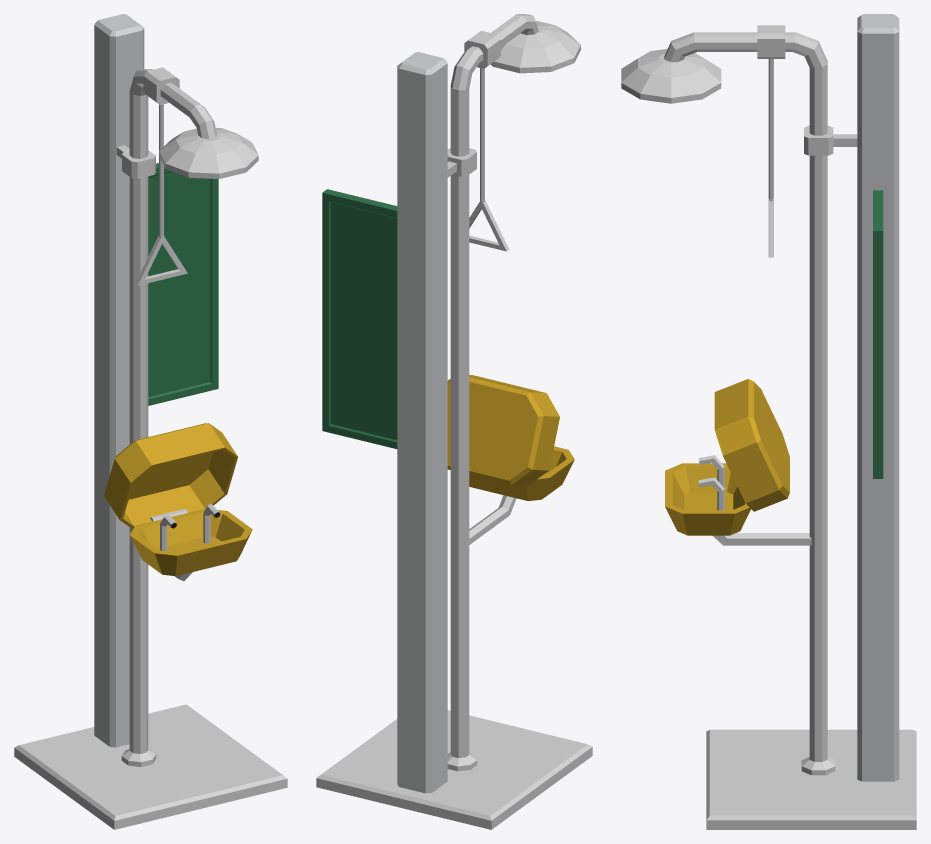
The model's file is safety-shower-and-eyewash-1f5f20.glb.
The picture shows the model from 3 angles, left to right: view 1: azimuth 30°, elevation 25°; view 2: azimuth 150°, elevation 25°; view 3: azimuth 270°, elevation 25°; orthographic projection. The views are drawn at different scales.
Visible parts, largest first — view 1: shower-body, eyewash-cover; view 2: shower-body, eyewash-cover; view 3: shower-body, eyewash-cover.
Part boxes in pixels (x1,y1,x2,y2): shower-body: [14, 14, 287, 829]; eyewash-cover: [104, 423, 237, 529]; shower-body: [316, 14, 592, 829]; eyewash-cover: [447, 375, 559, 485]; shower-body: [621, 14, 916, 829]; eyewash-cover: [714, 379, 789, 511].
Size of the model in its own units: 0.635 by 2.4 by 0.8427.
